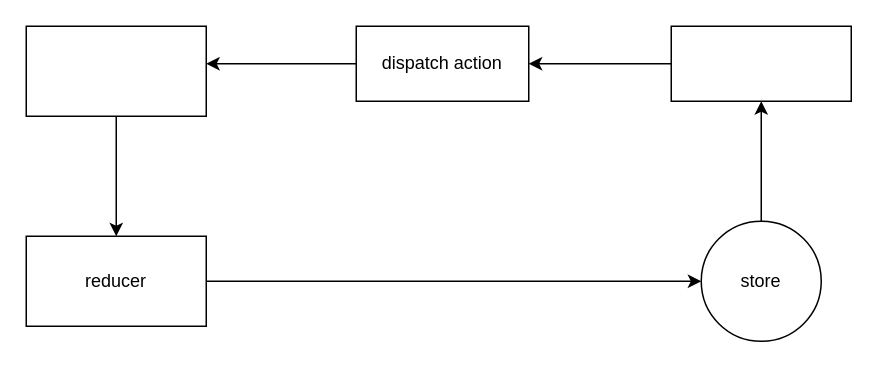
The diagram is 878 pixels wide and 368 high, and some of its shapes have lost their labels. Each missing label, with the centre of its shape:
component: (760,63)
middleware: (115,70)
